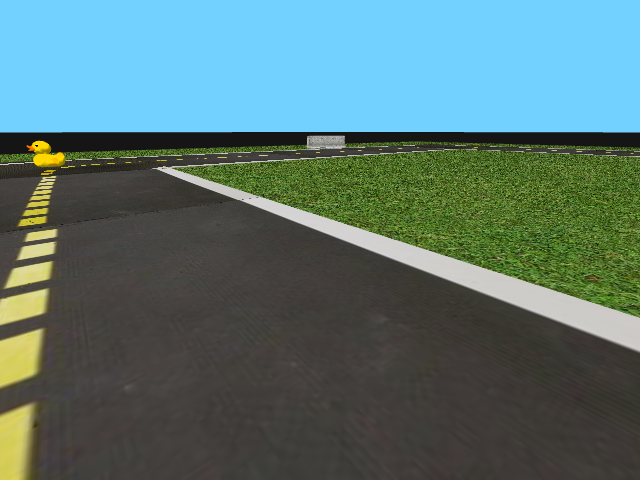Duckie: (24, 139, 66, 168)
